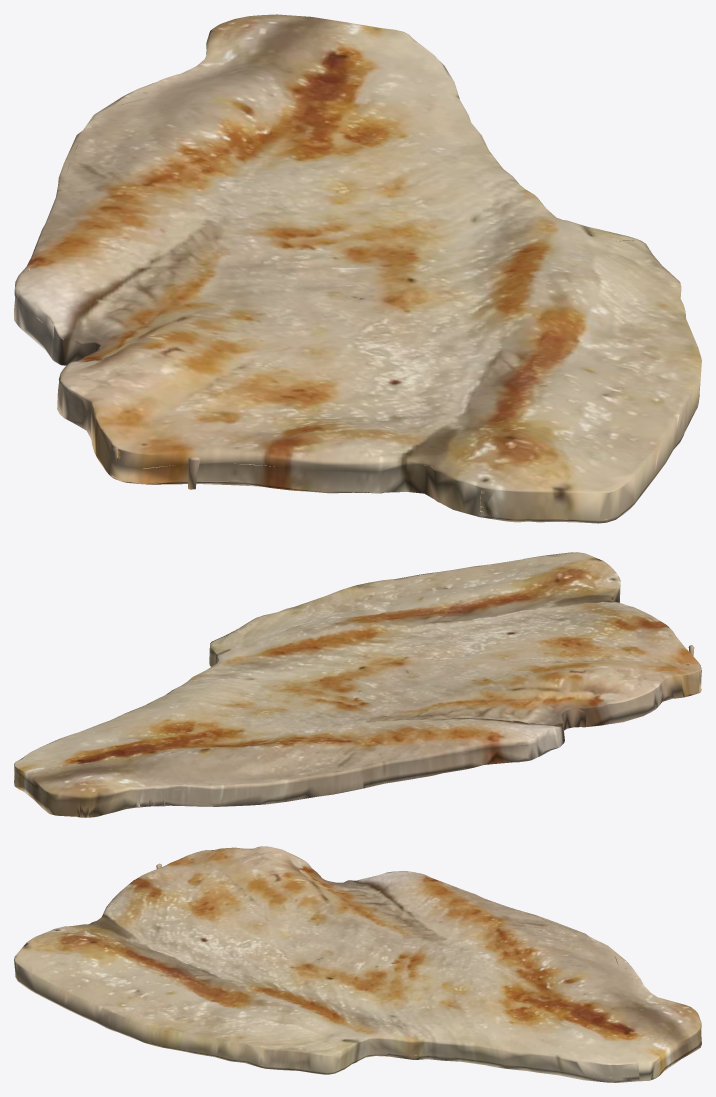
Rendered from meat.glb.
3 renders of one model, top to bottom at view 1: azimuth 30°, elevation 25°; view 2: azimuth 150°, elevation 25°; view 3: azimuth 270°, elevation 25°, orthographic. The views are drawn at different scales.
Visible parts, largest first — view 1: fetta di pollo; view 2: fetta di pollo; view 3: fetta di pollo.
Boxes of the visible parts, x1,y1,x2,y2 form: fetta di pollo: (14,14,701,523); fetta di pollo: (14,552,701,817); fetta di pollo: (14,846,701,1082).
Bounding box in the file's own units: 1.23 × 0.1478 × 1.84.
Materials: 1 (1 with a texture image).
